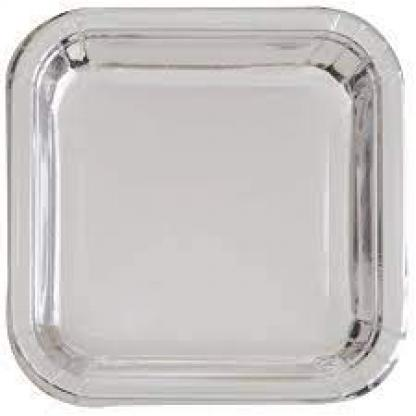METAL: (4, 4, 401, 401)
